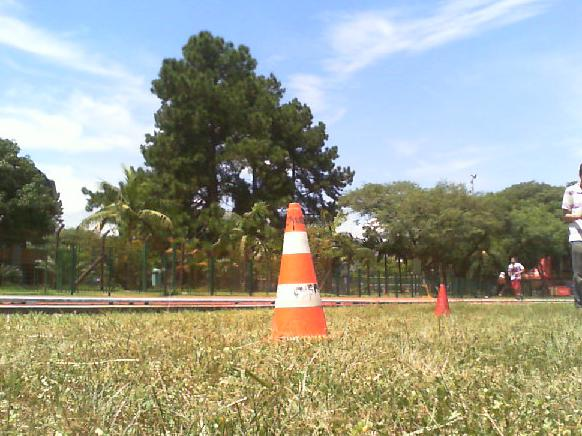0 cone: (266, 202, 336, 339), (433, 284, 454, 316)
